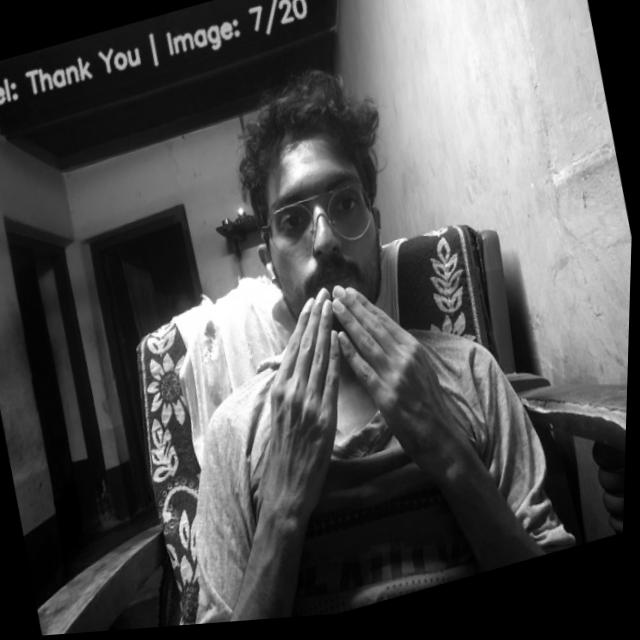Thank You: (223, 259, 475, 535)
